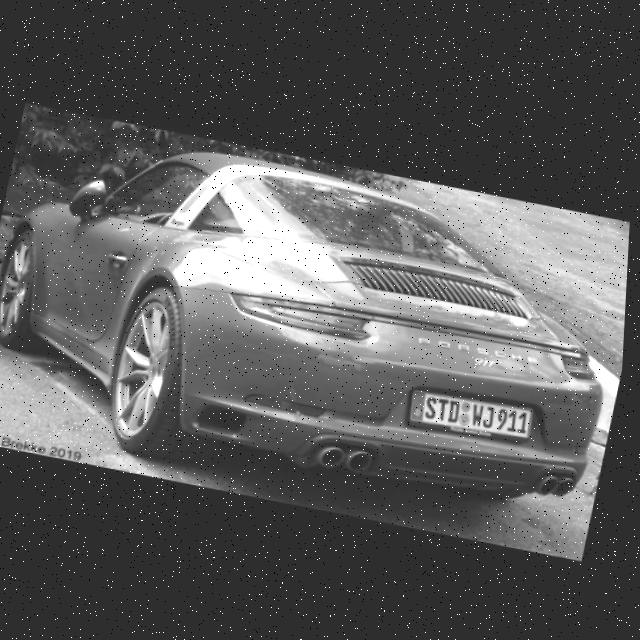license-plates: (412, 392, 532, 438)
